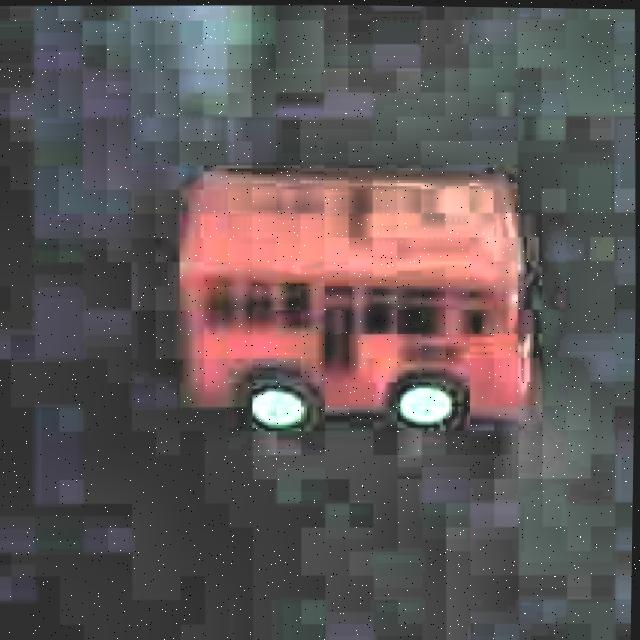bus: (160, 153, 551, 462)
